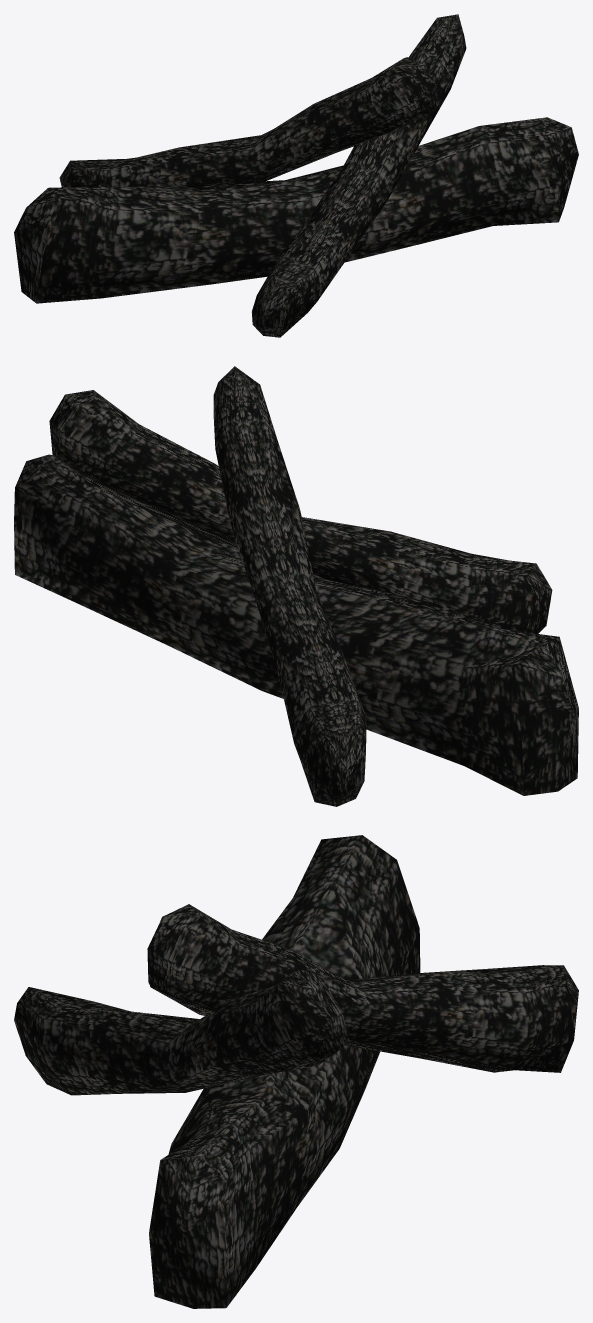
Rendered from INST_SM_BURNTWOODC.fbx.
3 views of the same model, one above another, from view 1: azimuth 30°, elevation 25°; view 2: azimuth 150°, elevation 25°; view 3: azimuth 270°, elevation 25° (orthographic). The views are drawn at different scales.
Parts seen in each view (by area): view 1: INST_SM_BURNTWOODC; view 2: INST_SM_BURNTWOODC; view 3: INST_SM_BURNTWOODC.
Part boxes in pixels (x1,y1,x2,y2): INST_SM_BURNTWOODC: (14,14,578,337); INST_SM_BURNTWOODC: (14,366,578,806); INST_SM_BURNTWOODC: (14,835,578,1308).
Bounding box in the file's own units: 124066 × 48454 × 80704.
Materials: 1 (1 with a texture image).
